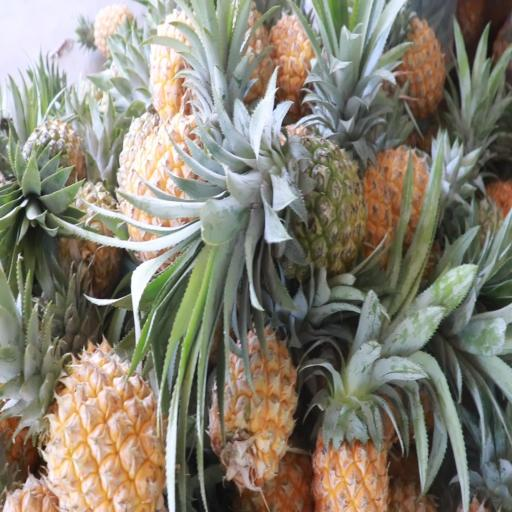Pineapple - v8 v1: (28, 327, 183, 512), (117, 102, 258, 261), (313, 328, 395, 512), (214, 320, 300, 494)
